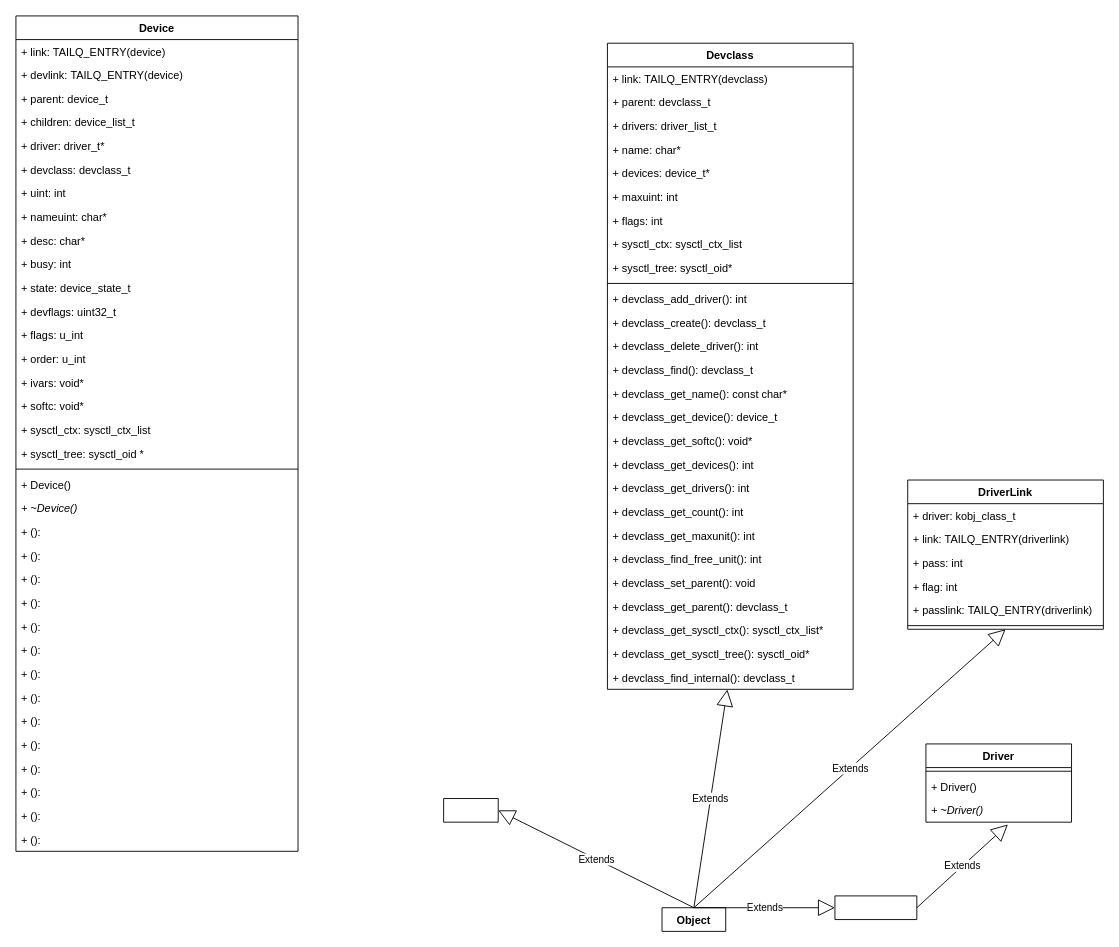
This 1119x947 diagram has some shape labels left out. Each missing label, with the centre of its shape:
"Kobj" goes at point (470, 810).
"KobjClass" goes at point (875, 907).
